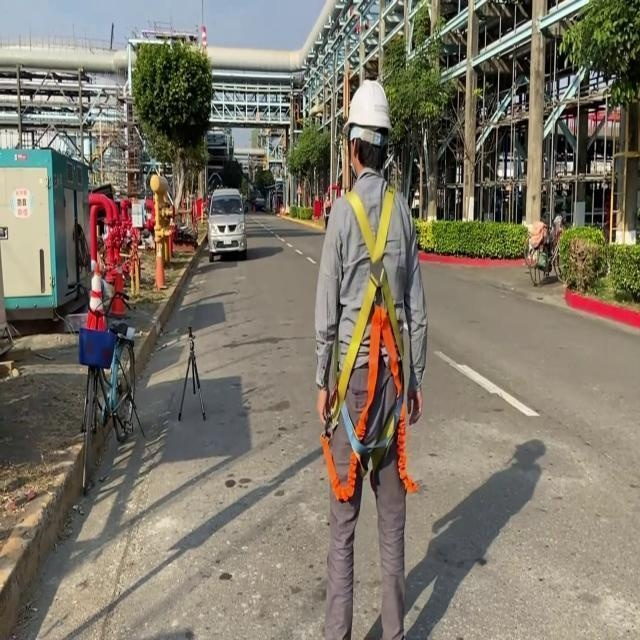Arnes_seguridad: (323, 180, 420, 505)
